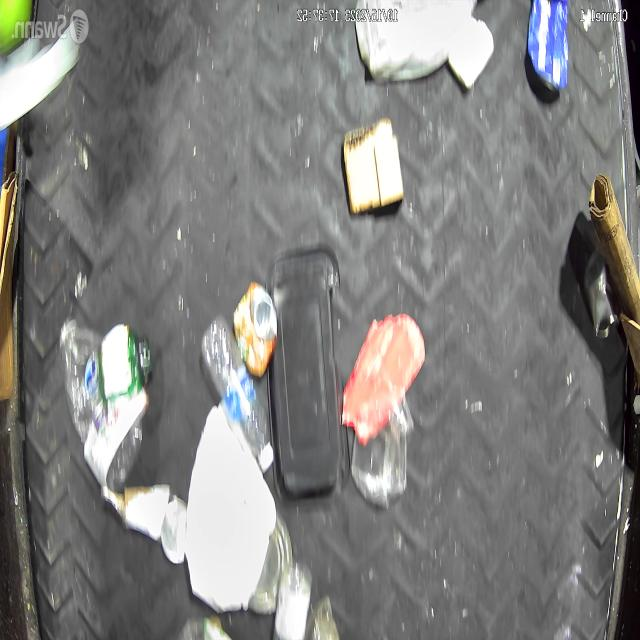can: (346, 117, 406, 211), (231, 280, 278, 371)
milk_jug: (354, 1, 490, 89)
plastic_bottle: (202, 327, 280, 472)
